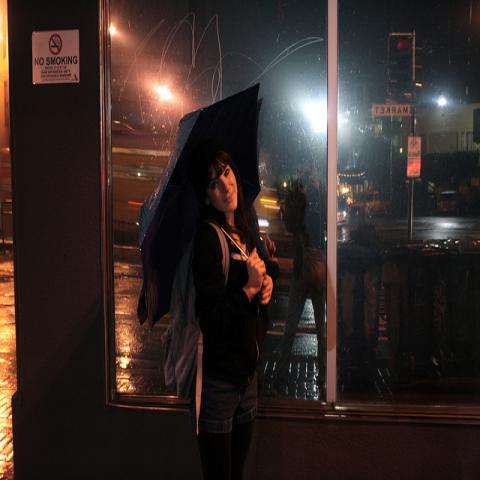car: (347, 190, 392, 216), (253, 191, 286, 222), (436, 190, 469, 218)
